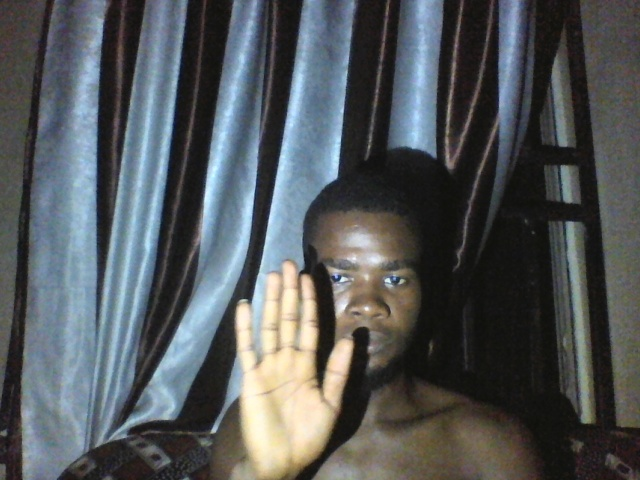hello: (226, 259, 356, 480)
